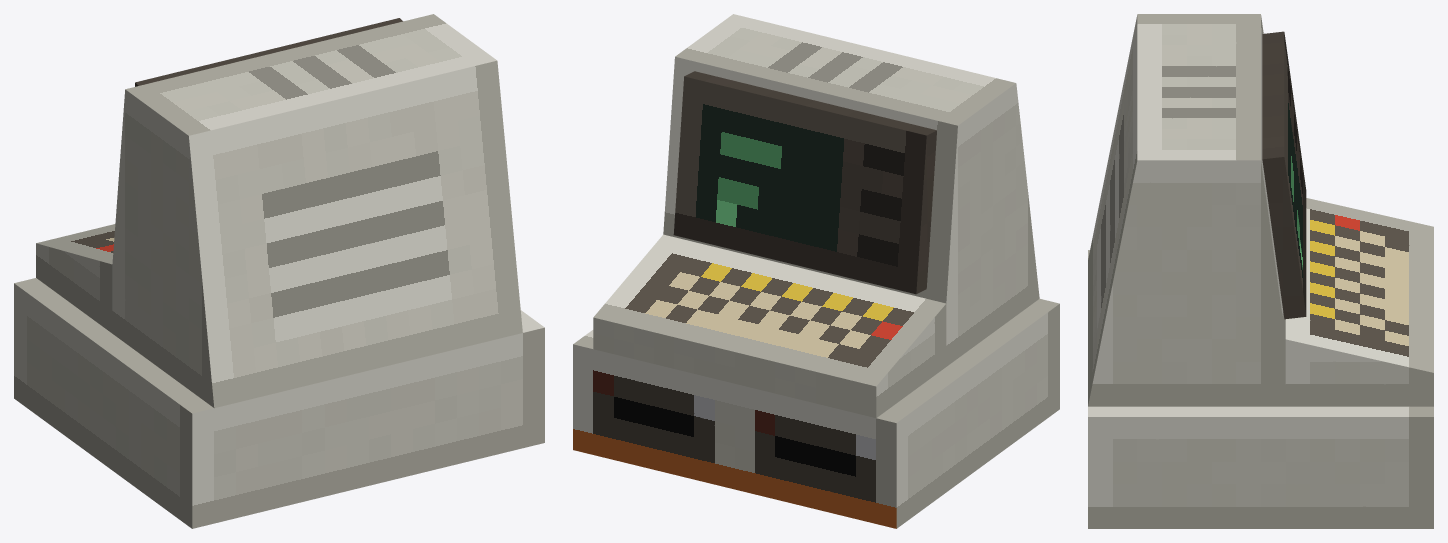
File: era5_floppy_terminal.obj
The picture shows the model from 3 angles, left to right: view 1: azimuth 30°, elevation 25°; view 2: azimuth 150°, elevation 25°; view 3: azimuth 270°, elevation 25°; orthographic projection. The views are drawn at different scales.
Parts seen in each view (by area): view 1: era5_floppy_terminal; view 2: era5_floppy_terminal; view 3: era5_floppy_terminal.
Part boxes in pixels (bbox=[...]): era5_floppy_terminal: bbox=[14, 14, 544, 528]; era5_floppy_terminal: bbox=[573, 14, 1059, 528]; era5_floppy_terminal: bbox=[1088, 14, 1433, 528].
Bounding box in the file's own units: 1 × 1 × 0.875.
